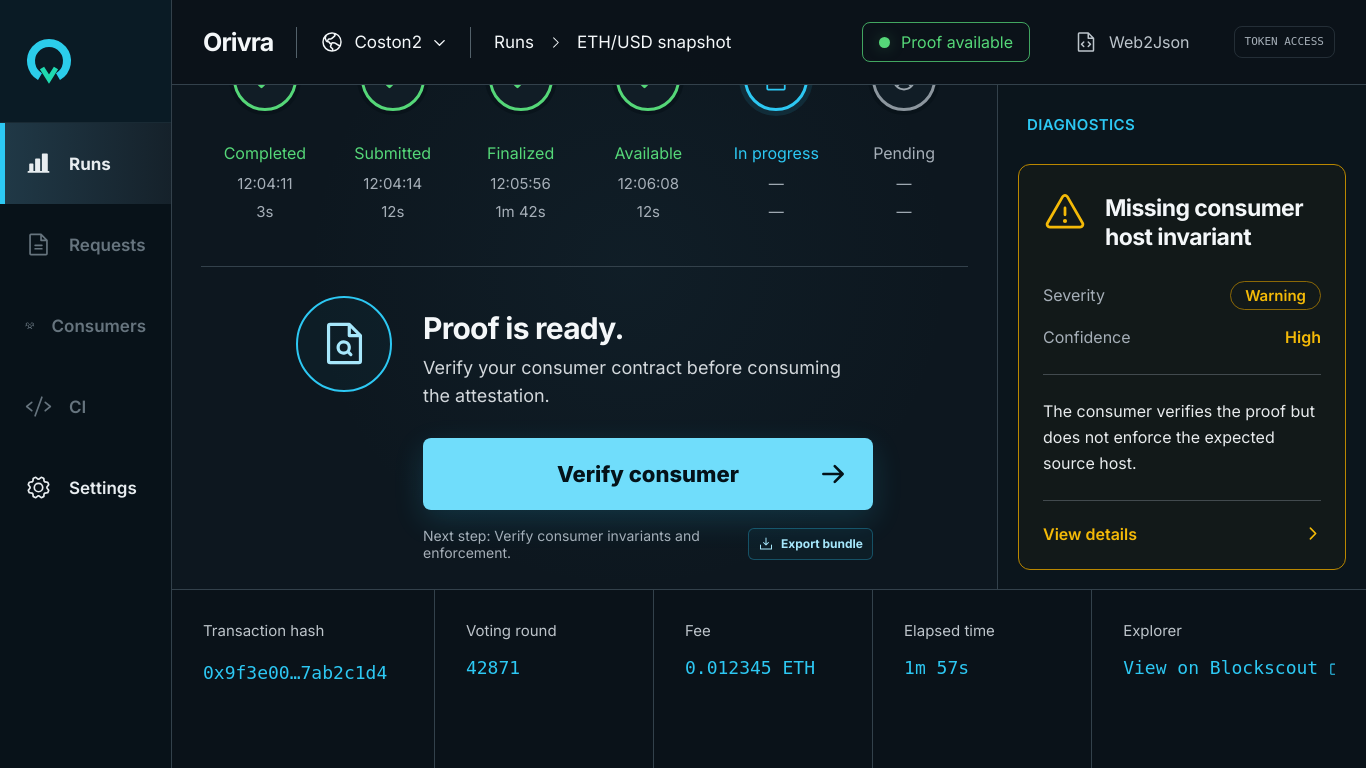
Test: Run Cockpit live surface contract › moves focus into the modal, traps Tab, closes on Escape, and restores focus
(page scrolled)
Click the button "Verify consumer" at (648, 474), box [423,438,873,510]
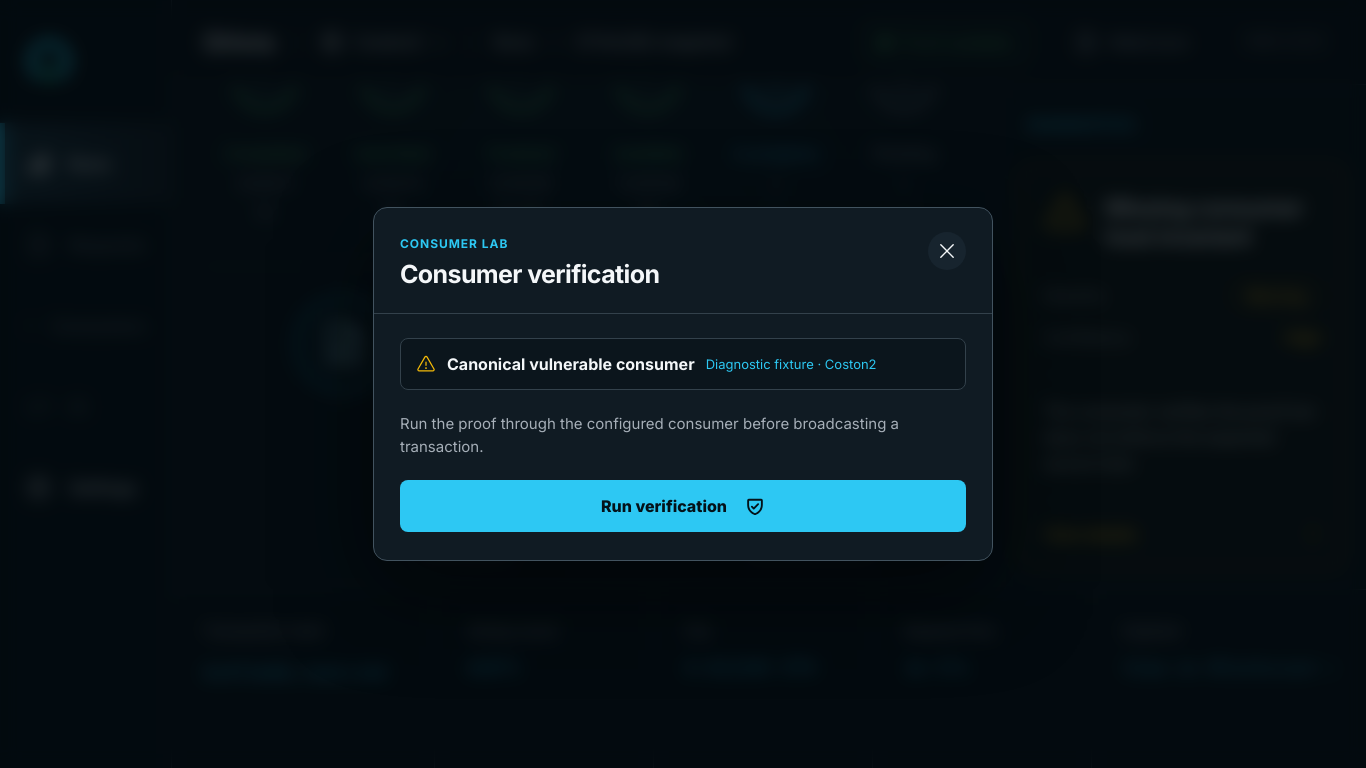
Press Shift+Tab
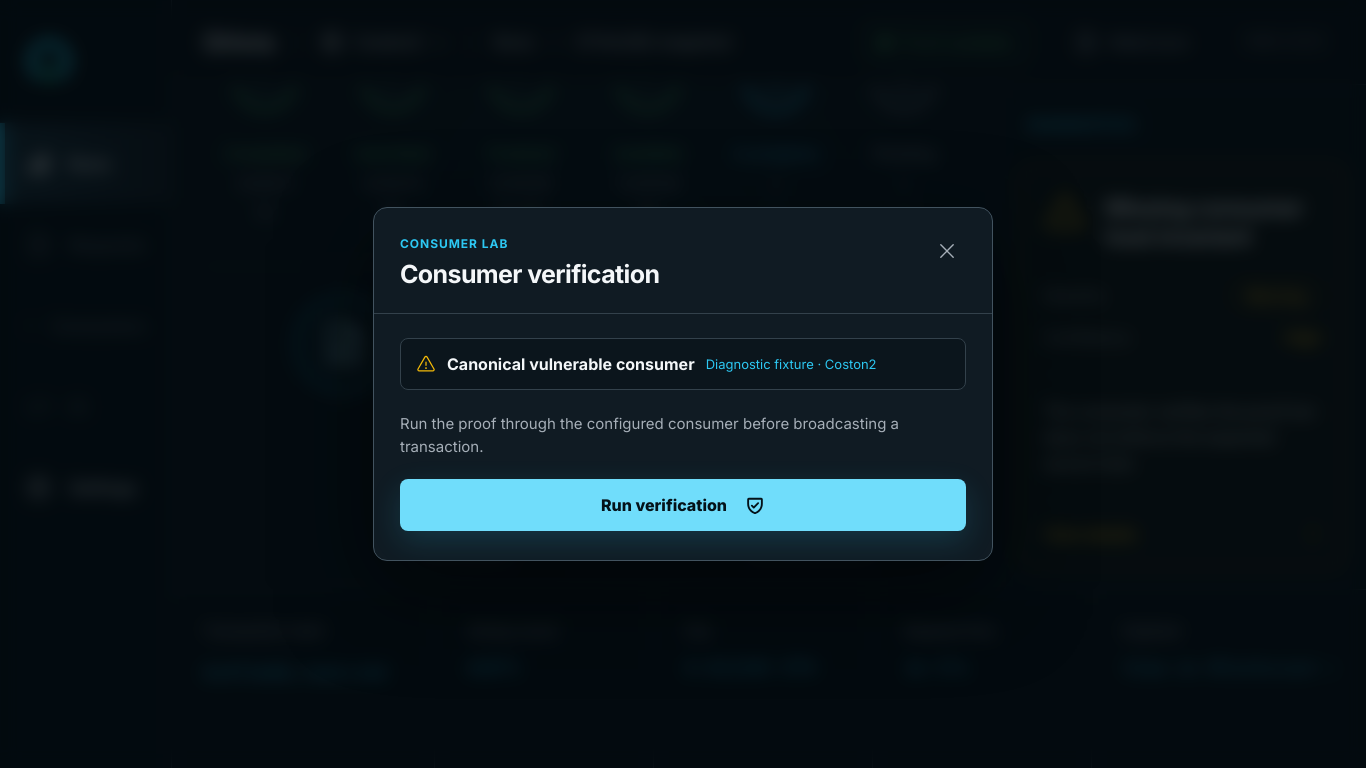
Press Escape
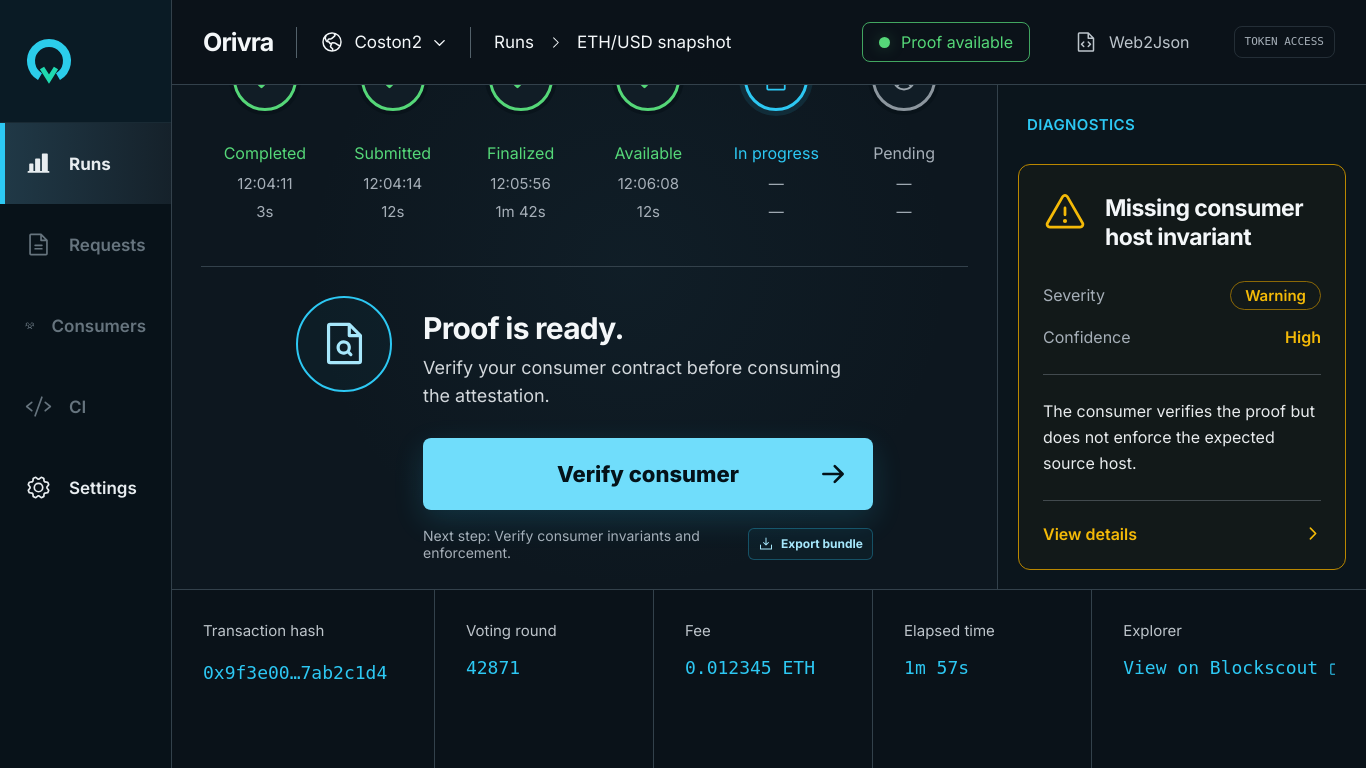
Expected: the dialog is gone
